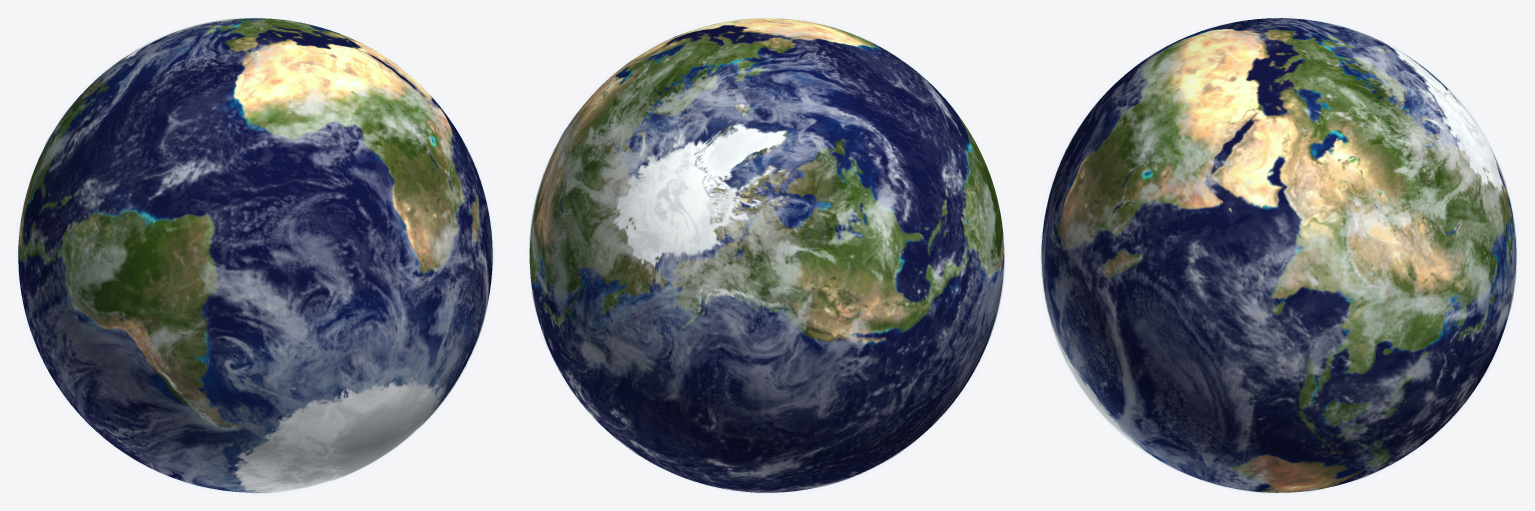
Rendered from earth.glb.
3 views of the same model, side by side, from view 1: azimuth 30°, elevation 25°; view 2: azimuth 150°, elevation 25°; view 3: azimuth 270°, elevation 25° (orthographic).
Parts seen in each view (by area): view 1: earth_surface, earth_clouds; view 2: earth_surface, earth_clouds; view 3: earth_surface, earth_clouds.
Part boxes in pixels (x1,y1,x2,y2): earth_surface: (18,18,492,492); earth_clouds: (18,18,493,493); earth_surface: (529,18,1004,492); earth_clouds: (529,20,1004,493); earth_surface: (1041,18,1516,492); earth_clouds: (1040,17,1517,493).
Bounding box in the file's own units: 2.04 × 2.04 × 2.04.
Materials: 3 (2 with a texture image).
